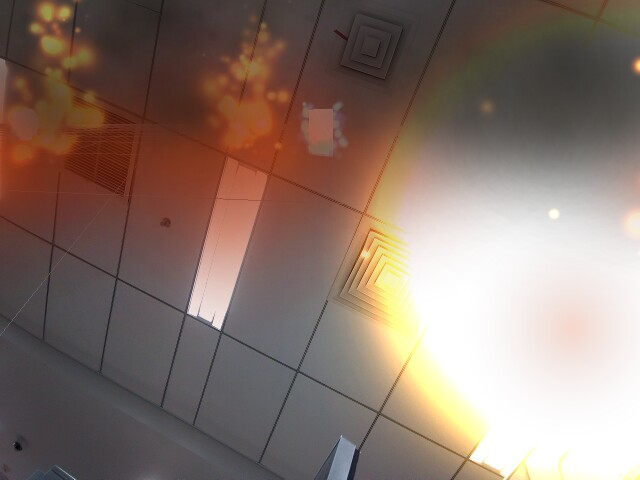fire: (367, 21, 639, 476)
